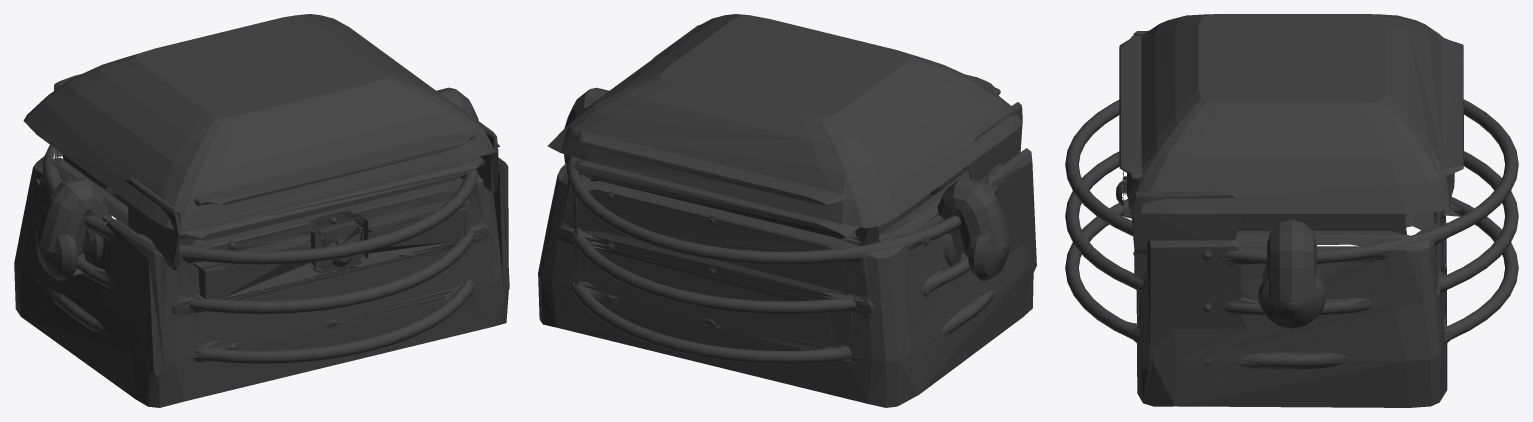
Rendered from tmp_octave_tune_hero.glb.
3 renders of one model, left to right at view 1: azimuth 30°, elevation 25°; view 2: azimuth 150°, elevation 25°; view 3: azimuth 270°, elevation 25°, orthographic. The views are drawn at different scales.
Visible parts, largest first — view 1: body, lid_panel, front_hatch, handle_l, lock_plate, handle_r; view 2: body, lid_panel, handle_l, handle_r; view 3: lid_panel, body, handle_r.
Part boxes in pixels (x1,y1,x2,y2): body: [14, 145, 509, 407]; lid_panel: [23, 14, 499, 270]; front_hatch: [196, 202, 470, 300]; handle_l: [35, 167, 137, 291]; lock_plate: [217, 193, 438, 273]; handle_r: [436, 87, 478, 179]; body: [538, 148, 1036, 407]; lid_panel: [547, 14, 1022, 245]; handle_l: [899, 177, 1010, 280]; handle_r: [564, 87, 608, 178]; lid_panel: [1119, 14, 1463, 254]; body: [1065, 99, 1518, 407]; handle_r: [1236, 220, 1377, 329].
Bounding box in the file's own units: 80.55 × 44.99 × 68.7.
1 material, 1 textured.
